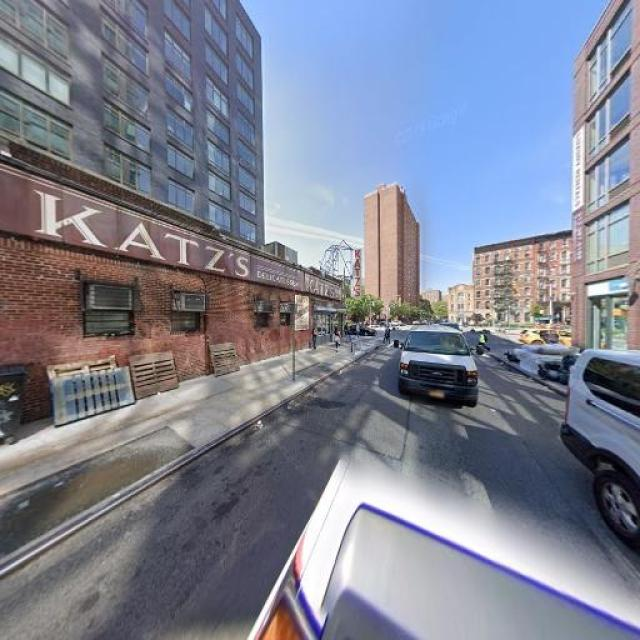Building: (1, 158, 342, 417), (575, 1, 640, 367)
